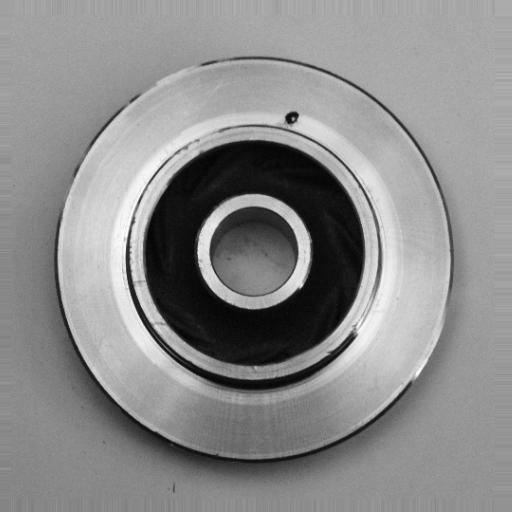pit: (274, 102, 306, 131)
scratch: (348, 269, 396, 343), (164, 128, 211, 172)
unpolished_casting: (52, 52, 454, 466)
